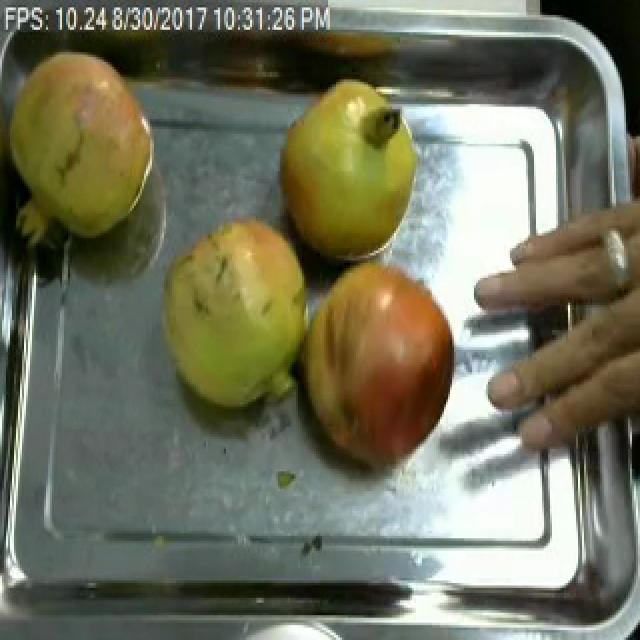fruit: (300, 246, 466, 481), (148, 203, 318, 427), (0, 37, 164, 251), (268, 70, 428, 276), (474, 201, 640, 340)
